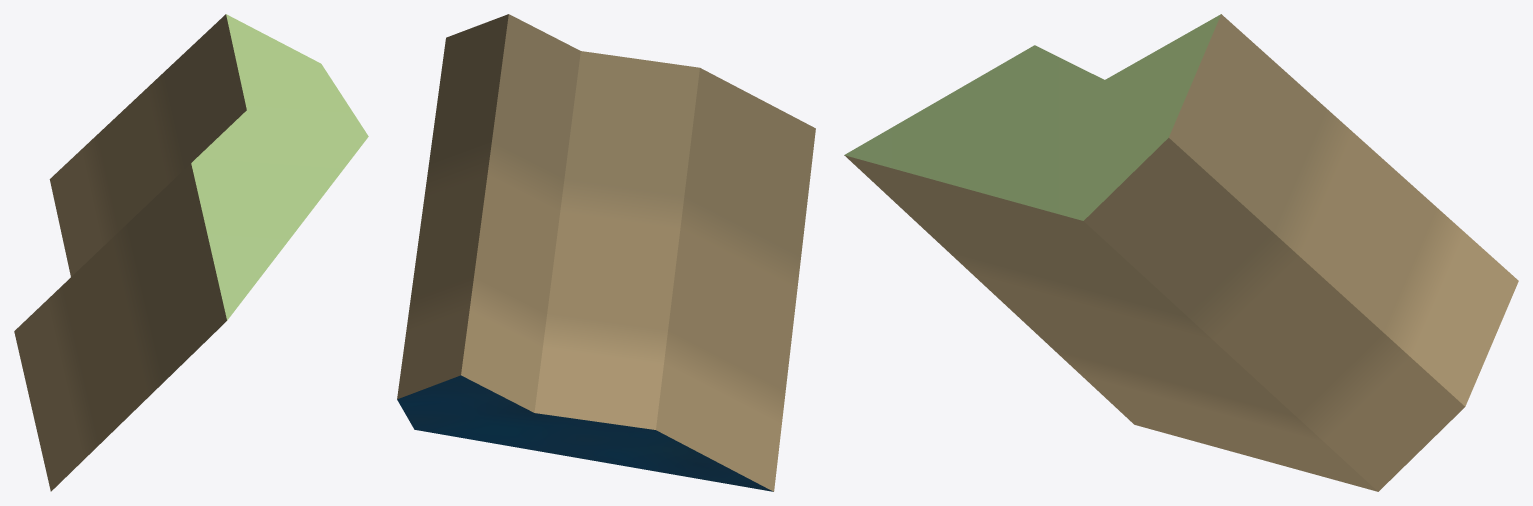
The model's file is 066b_Albania.glb.
3 renders of one model, left to right at view 1: azimuth 30°, elevation 25°; view 2: azimuth 150°, elevation 25°; view 3: azimuth 270°, elevation 25°, orthographic. The views are drawn at different scales.
Parts seen in each view (by area): view 1: part_0; view 2: part_0; view 3: part_0.
Boxes of the visible parts, x1,y1,x2,y2 form: part_0: (14,14,368,491); part_0: (397,14,815,491); part_0: (844,14,1518,491).
Bounding box in the file's own units: 0.2011 × 0.2595 × 0.2896.
1 material, 1 textured.
